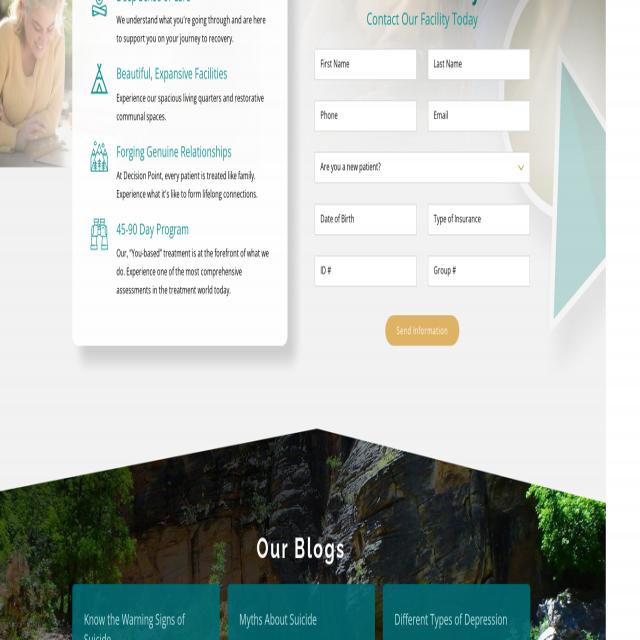button: (227, 583, 375, 640), (383, 583, 530, 640), (72, 583, 219, 640), (386, 316, 459, 346), (90, 141, 108, 172), (90, 221, 108, 251), (92, 64, 109, 94), (92, 0, 109, 16)
field: (315, 152, 529, 184), (315, 49, 416, 80), (429, 49, 530, 80), (315, 204, 417, 234), (315, 101, 416, 131), (429, 101, 530, 131), (429, 204, 530, 234), (316, 256, 417, 286), (428, 257, 529, 287)
